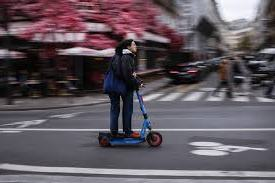multiple: (95, 34, 163, 152)
